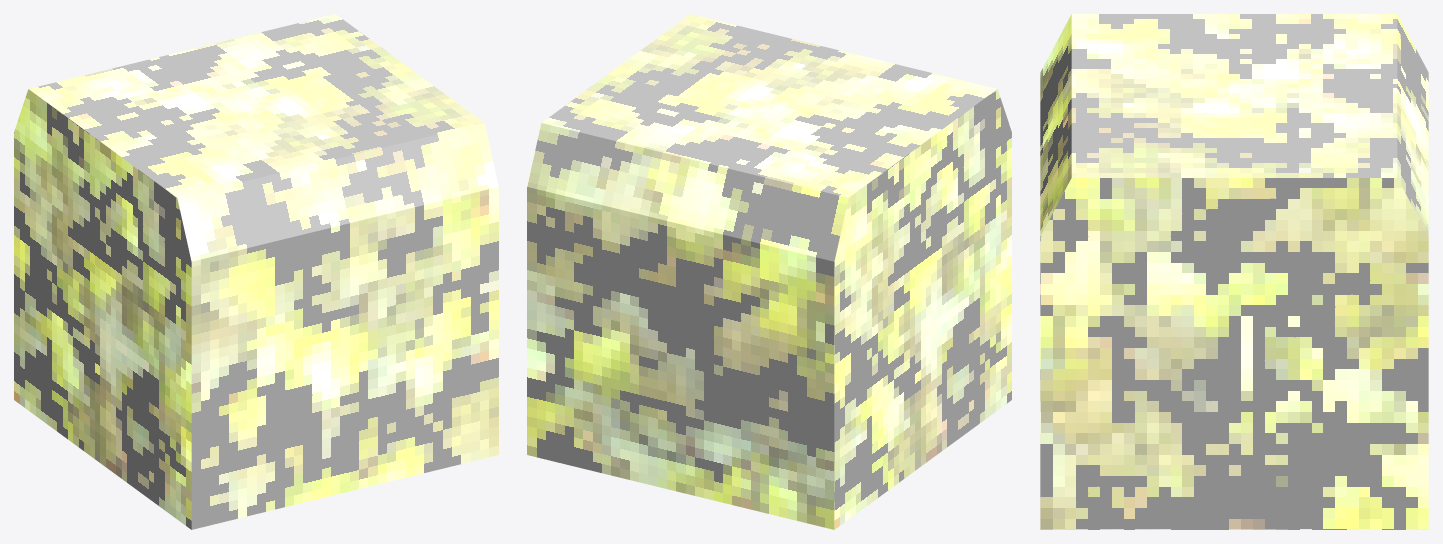
File: bush.glb
3 views of the same model, side by side, from view 1: azimuth 30°, elevation 25°; view 2: azimuth 150°, elevation 25°; view 3: azimuth 270°, elevation 25° (orthographic). The views are drawn at different scales.
Parts seen in each view (by area): view 1: Bush; view 2: Bush; view 3: Bush.
Part boxes in pixels (left/top/right/bottom): Bush: left=14, top=14, right=498, bottom=529; Bush: left=527, top=14, right=1011, bottom=529; Bush: left=1040, top=14, right=1428, bottom=529.
Size of the model in its own units: 2 by 2 by 2.
